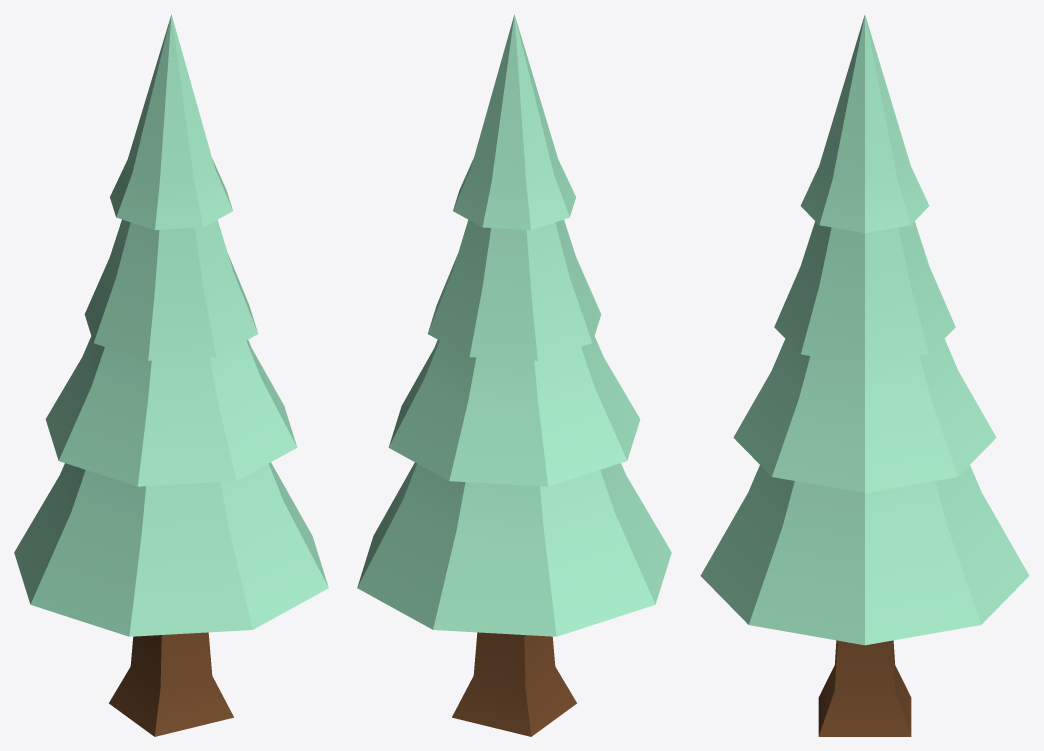
Rendered from Tree0.obj.
3 renders of one model, left to right at view 1: azimuth 30°, elevation 25°; view 2: azimuth 150°, elevation 25°; view 3: azimuth 270°, elevation 25°, orthographic.
Visible parts, largest first — view 1: Tree0:tree; view 2: Tree0:tree; view 3: Tree0:tree.
Boxes of the visible parts, x1,y1,x2,y2 form: Tree0:tree: (14, 14, 328, 736); Tree0:tree: (357, 14, 671, 736); Tree0:tree: (700, 15, 1029, 736).
Size of the model in its own units: 1.02 by 2.41 by 1.02.
